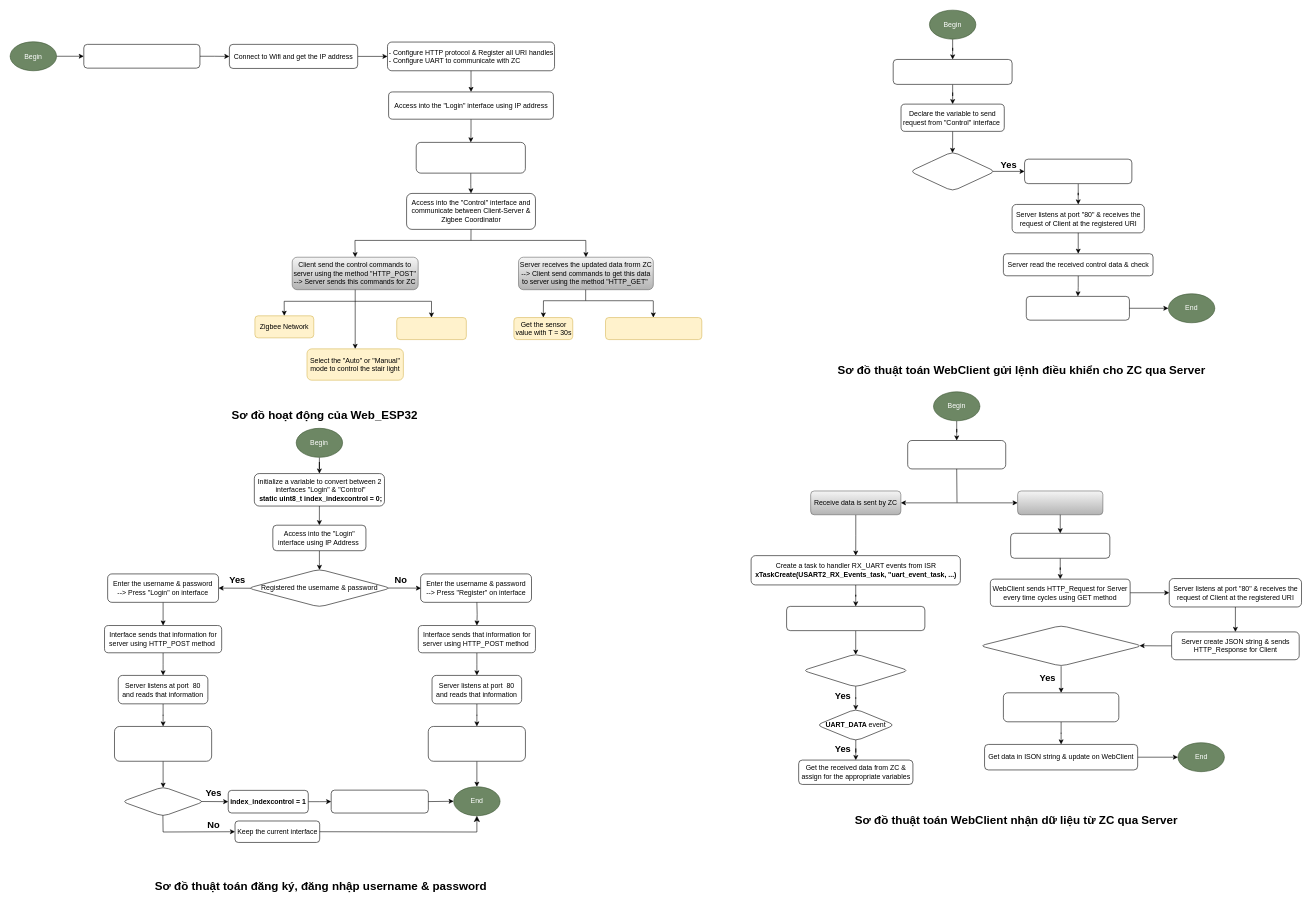
The diagram is 1312 pixels wide and 904 high, and some of its shapes have lost their labels. Here are the shapes that lost their labels. From the top down, the centre of each, then its label:
[141,56]: Configure ESP32 at Station Mode
[952,71]: Set the "onclick" event when pressing the button on "Control" interface
[470,157]: Register & Login the username & passwork of user
[952,171]: Press the button on "Control" Interface
[1078,171]: WebClient send data control for Server using HTTP_POST
[431,328]: Control the stair light
[653,328]: Get the mode and status of stair & network with T = 1s
[1077,308]: Server send for ZC using UART
[956,454]: Declare all variables to receive the data is sent by ZC
[1060,502]: Server sends that data to update to the Client
[1060,545]: Set the get data automatically according time cycles
[855,618]: Declare the variable to store received data
[1060,645]: XMLHttpRequest.ready == 4 && XMLHttpRequest.statyus == 200
[855,670]: Receive the UART RX event
[1061,707]: WebClient reads the received data & converts into JSON string
[163,743]: Server reads information about username & password in NVS Flash and compares
[476,743]: Server reads information about username & password and store it into NVS Flash
[162,801]: Two datas match
[379,801]: Access into "Control" interface
